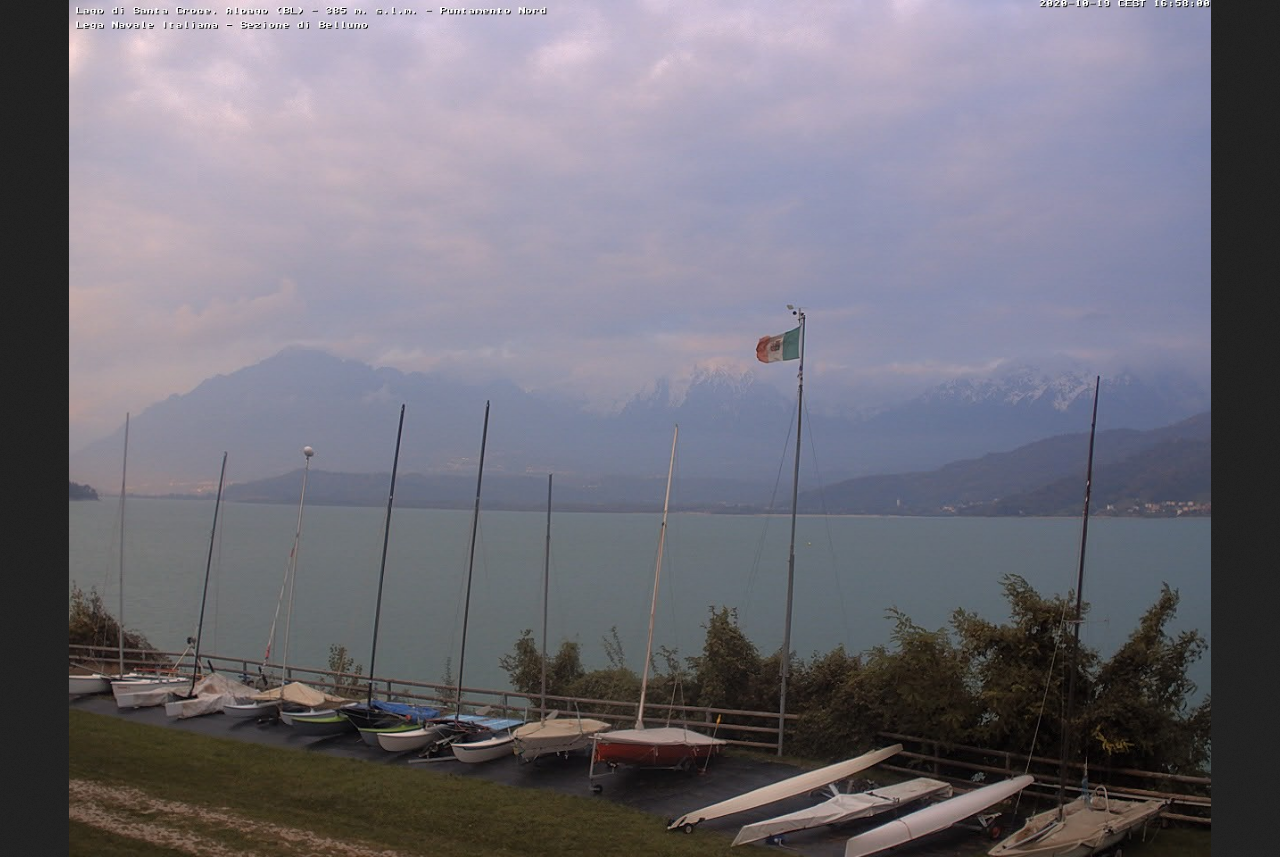yes: (750, 322, 802, 366)
